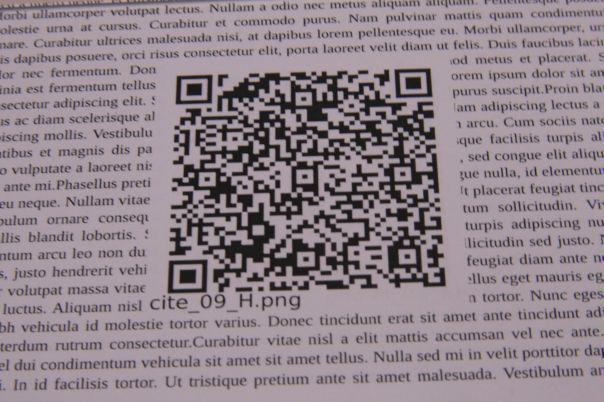qr_code: (167, 66, 447, 293)
